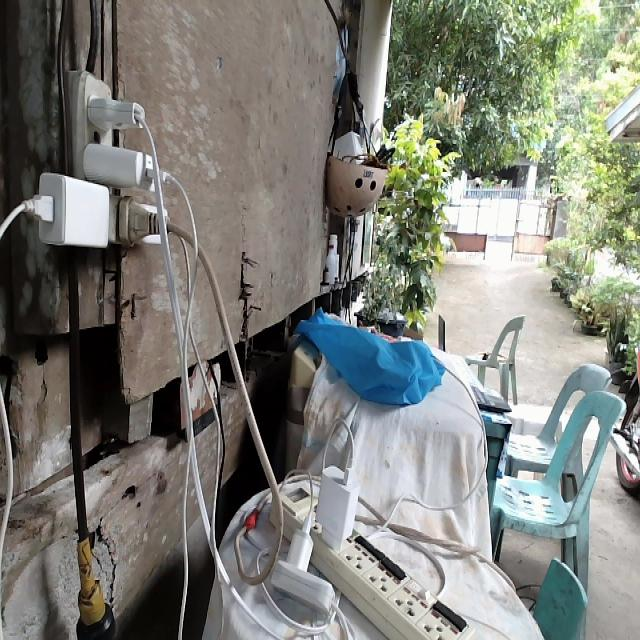-: (8, 20, 225, 345)
